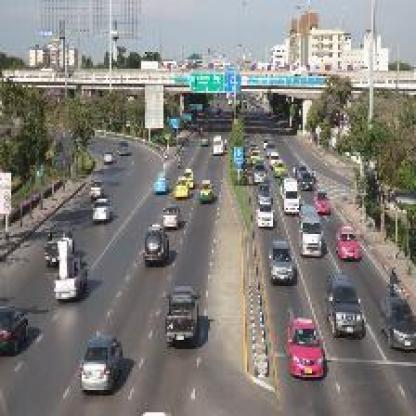other: (277, 310, 333, 382), (310, 184, 363, 257), (172, 159, 192, 195)
